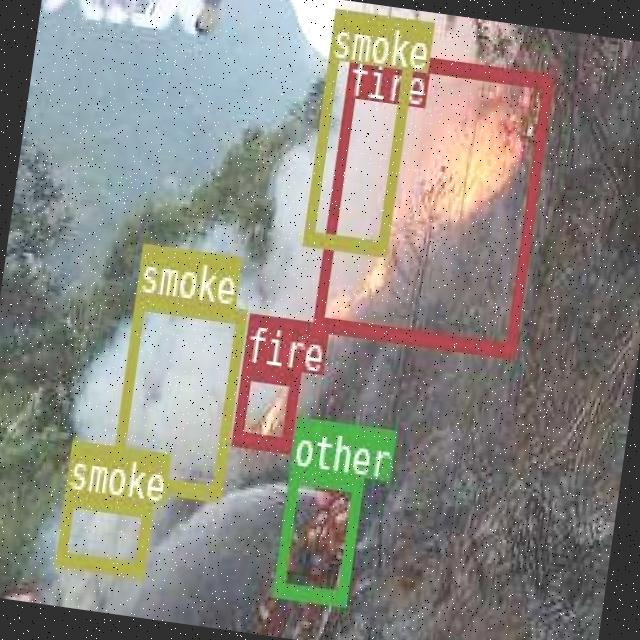fire: (312, 43, 552, 354), (231, 362, 300, 449)
smoke: (301, 6, 418, 254), (108, 292, 245, 498), (55, 489, 153, 576)
